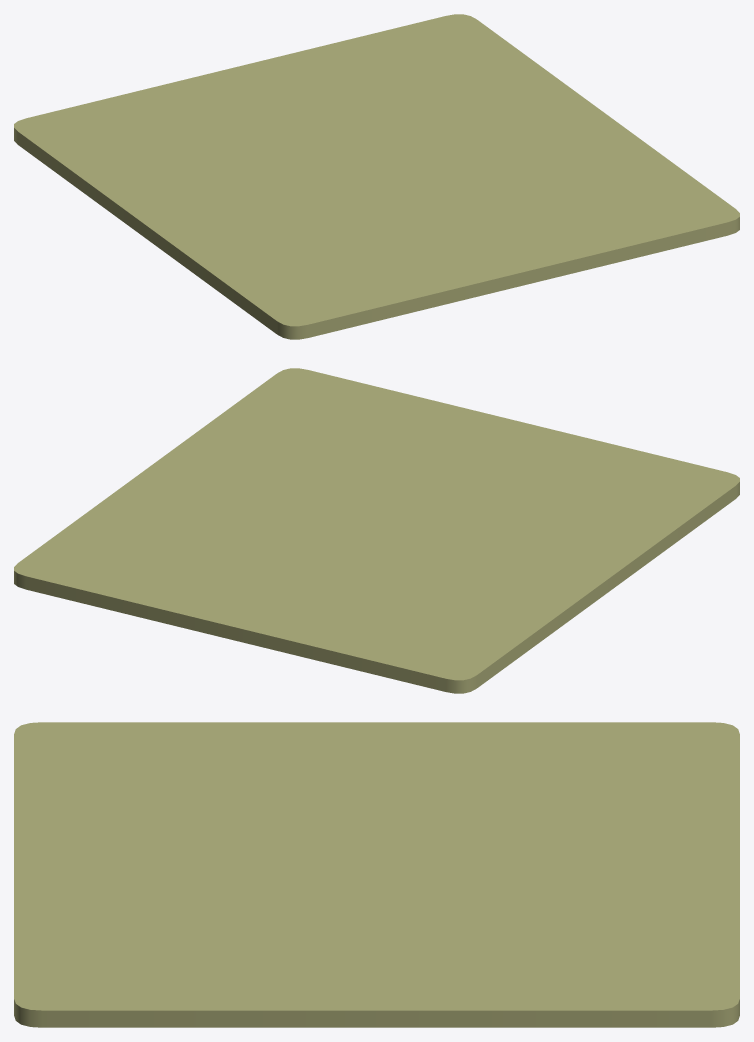
File: pad.FBX
The picture shows the model from 3 angles, top to bottom: view 1: azimuth 30°, elevation 25°; view 2: azimuth 150°, elevation 25°; view 3: azimuth 270°, elevation 25°; orthographic projection. The views are drawn at different scales.
Visible parts, largest first — view 1: Box001; view 2: Box001; view 3: Box001.
Boxes of the visible parts, bbox=[...] form: Box001: bbox=[14, 14, 739, 339]; Box001: bbox=[14, 368, 739, 693]; Box001: bbox=[14, 722, 739, 1027].
Size of the model in its own units: 82.97 by 2.31 by 88.26.
